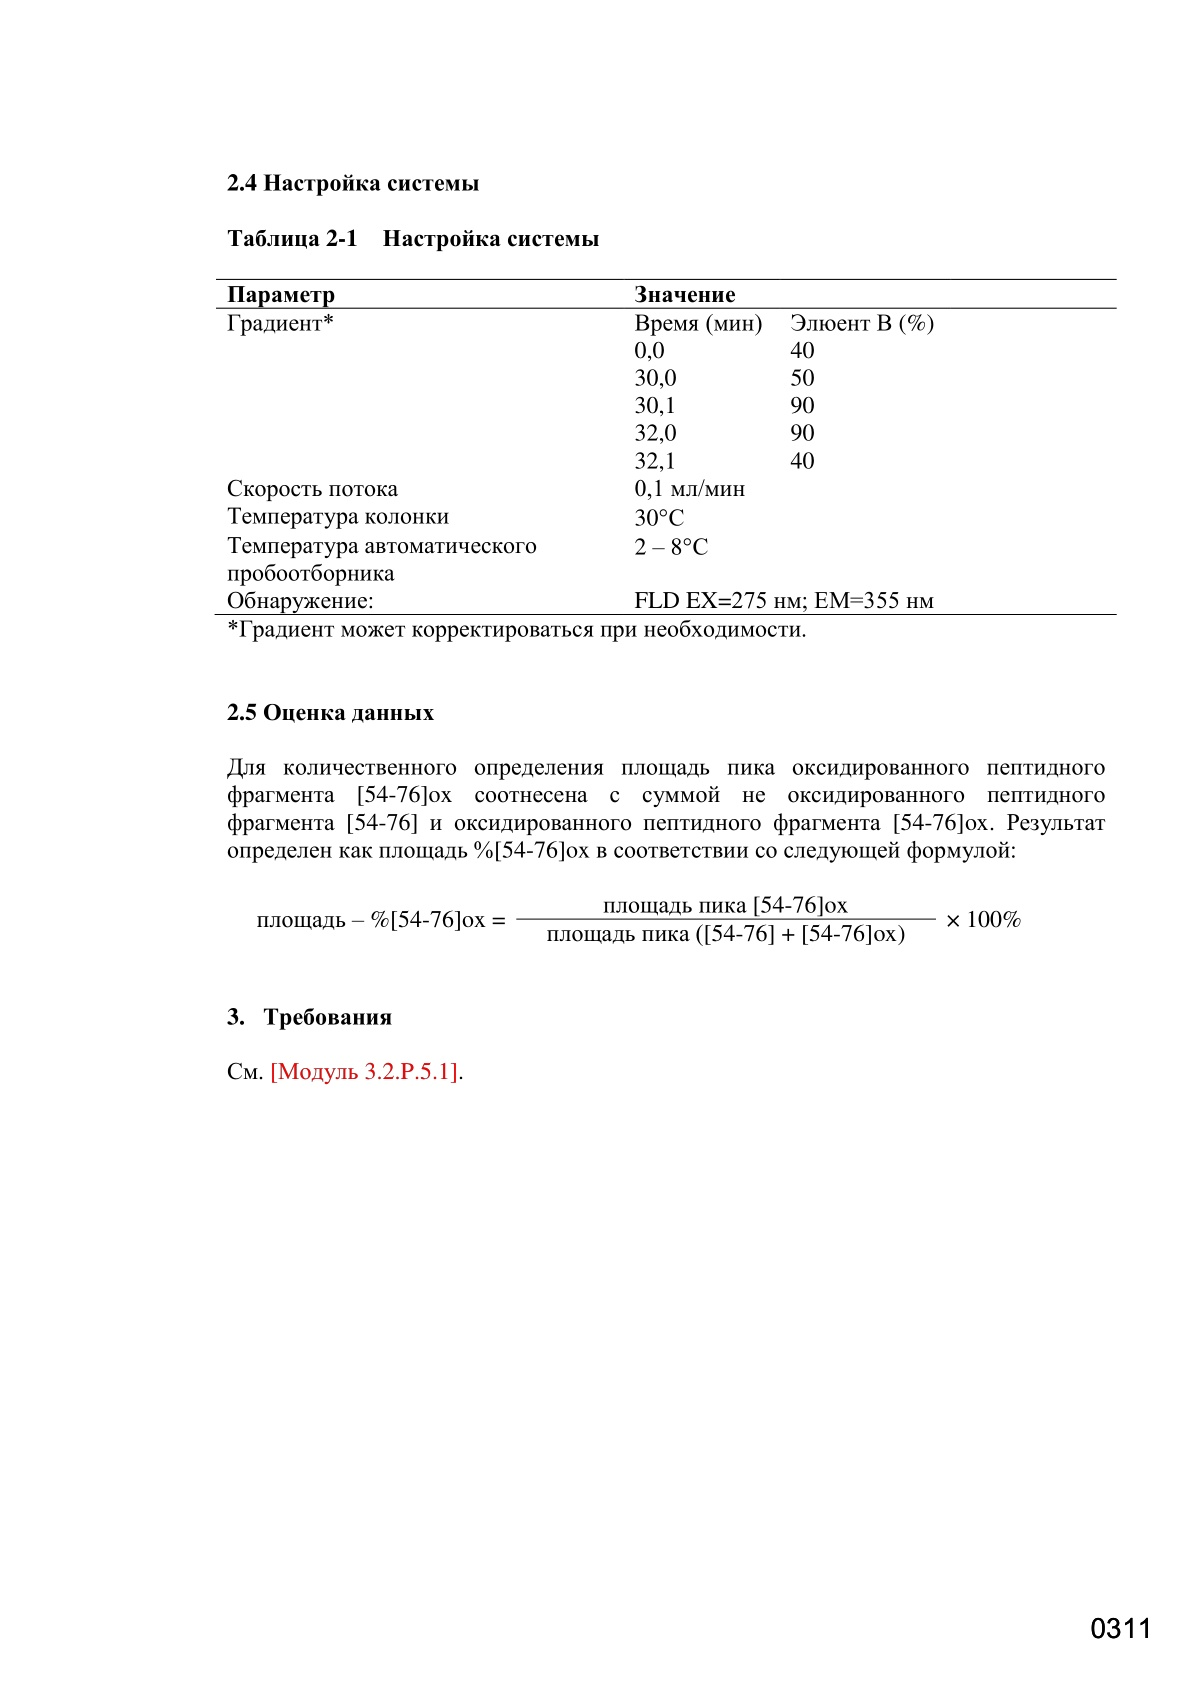partial_lined: (215, 277, 1118, 617)
